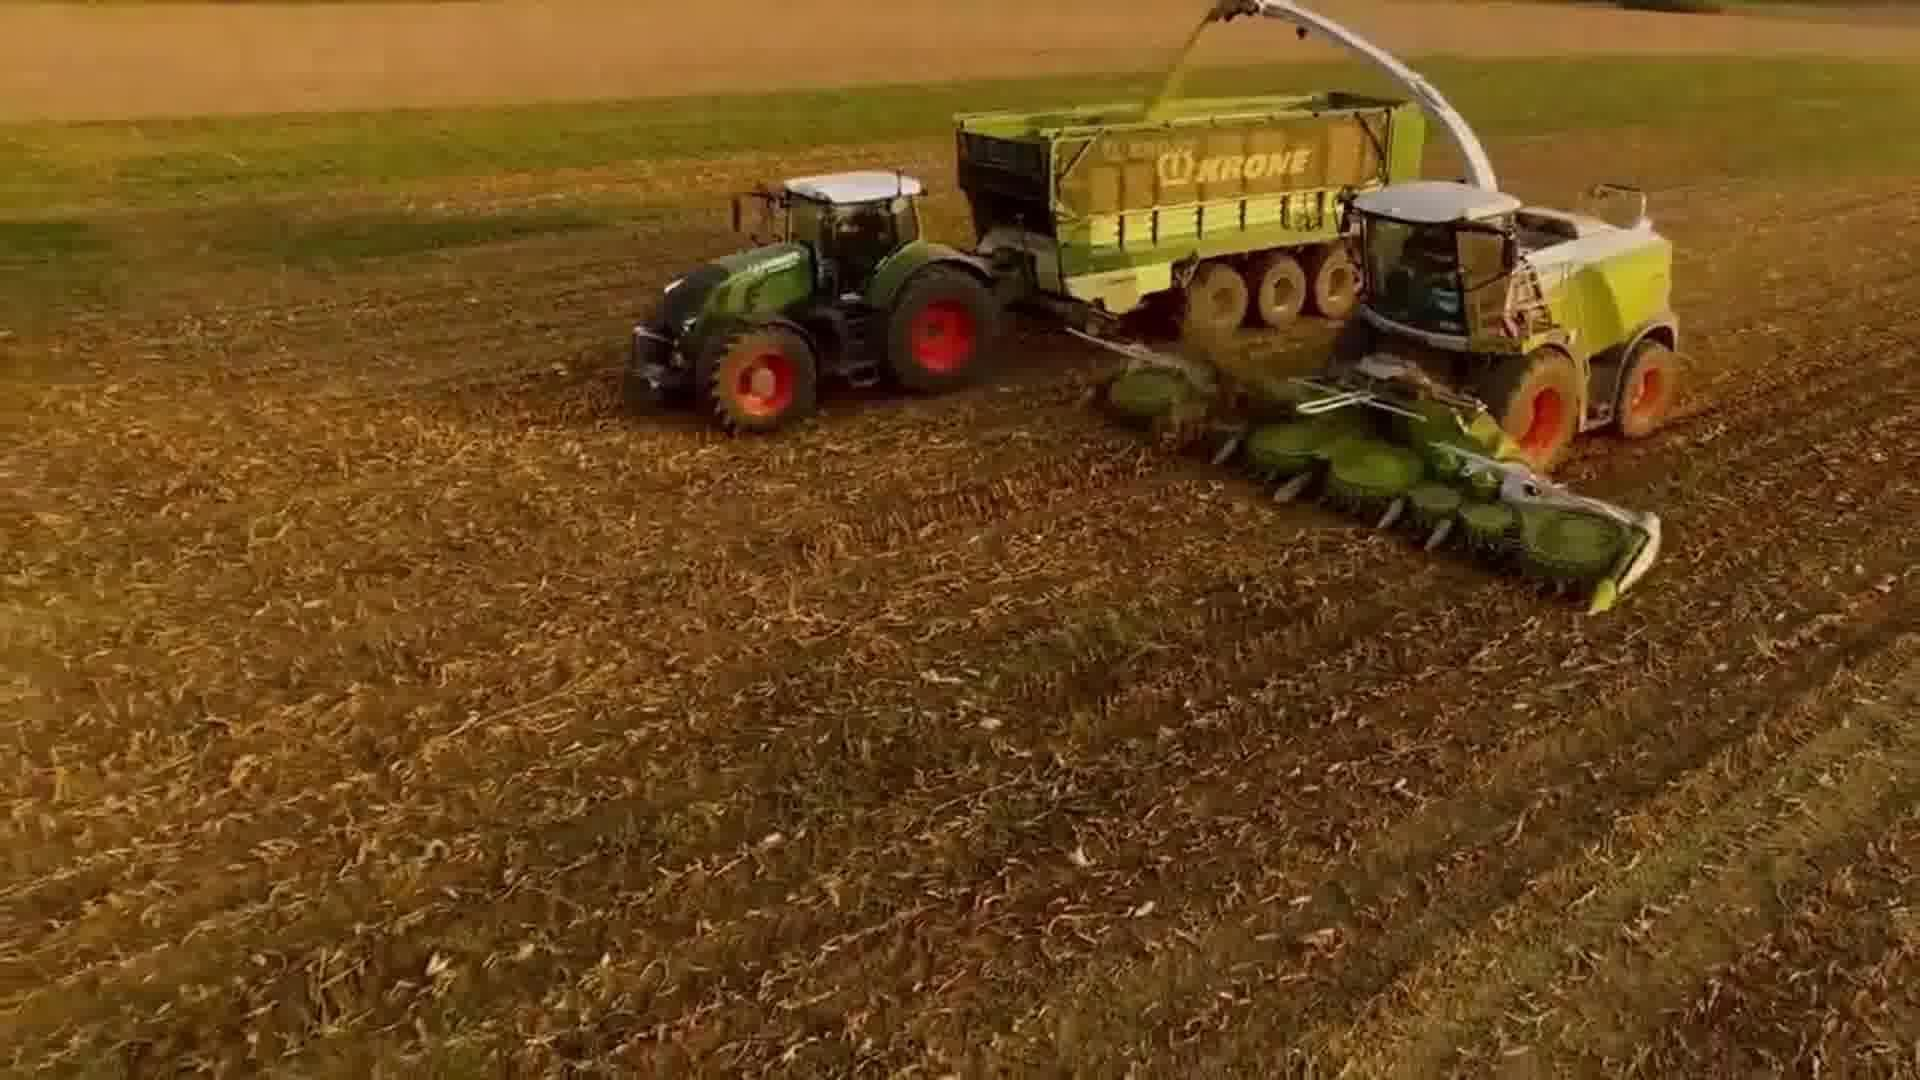combine harvester: (1059, 0, 1695, 622)
tractor: (617, 161, 1011, 440)
trailer: (951, 80, 1436, 348)
